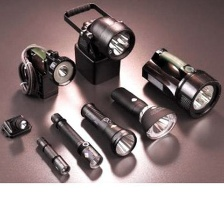light_bulb: (61, 1, 141, 91), (139, 45, 223, 121), (13, 40, 78, 105), (106, 83, 178, 140), (78, 100, 137, 158), (48, 110, 103, 169), (36, 136, 74, 179), (0, 112, 34, 140)
